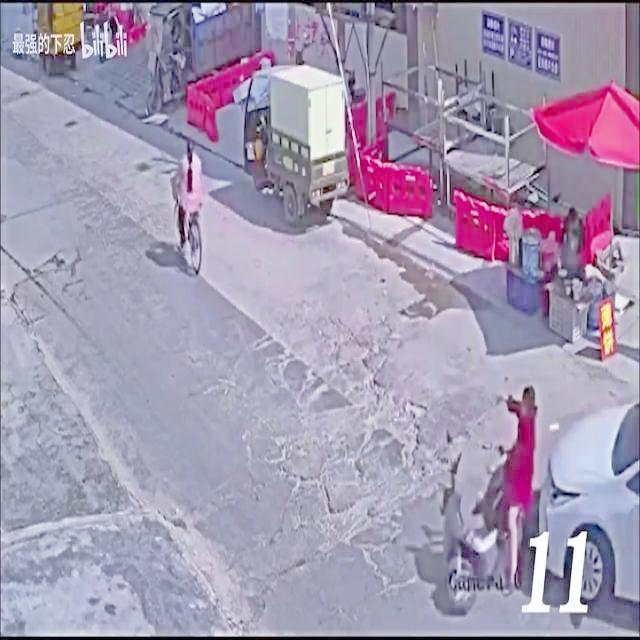Car: (546, 378, 640, 608)
Minor Accident: (440, 353, 640, 620)
Motor: (436, 434, 512, 613)
